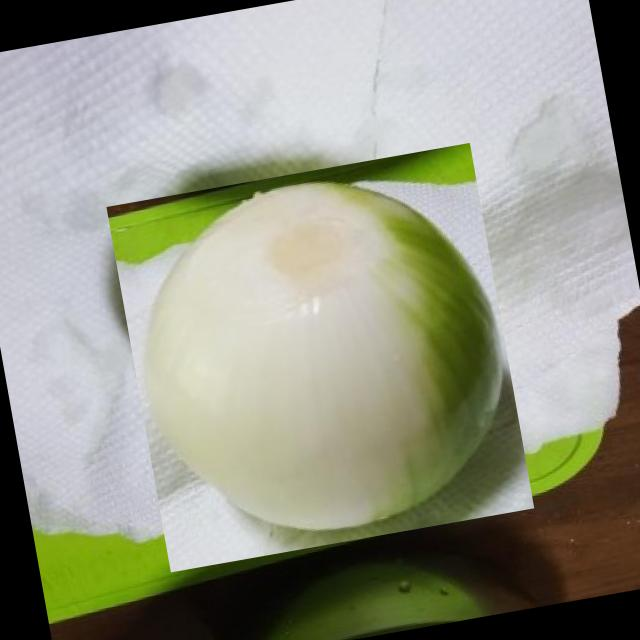Onion: (106, 142, 534, 572)
